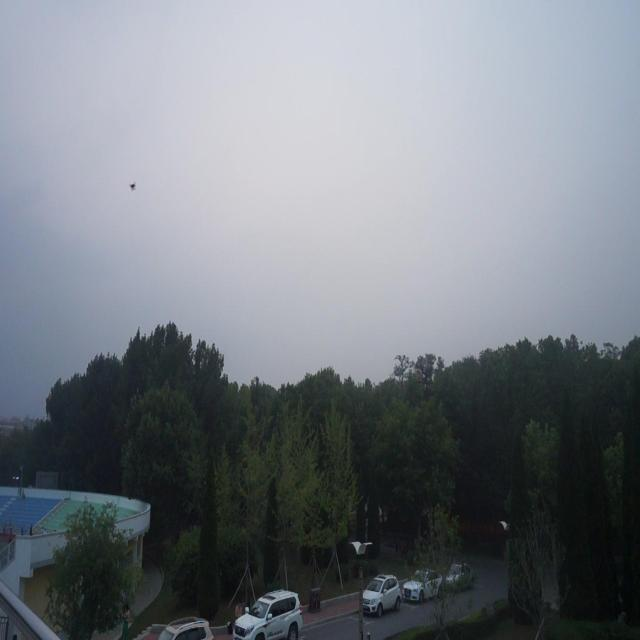drone: (128, 175, 138, 194)
